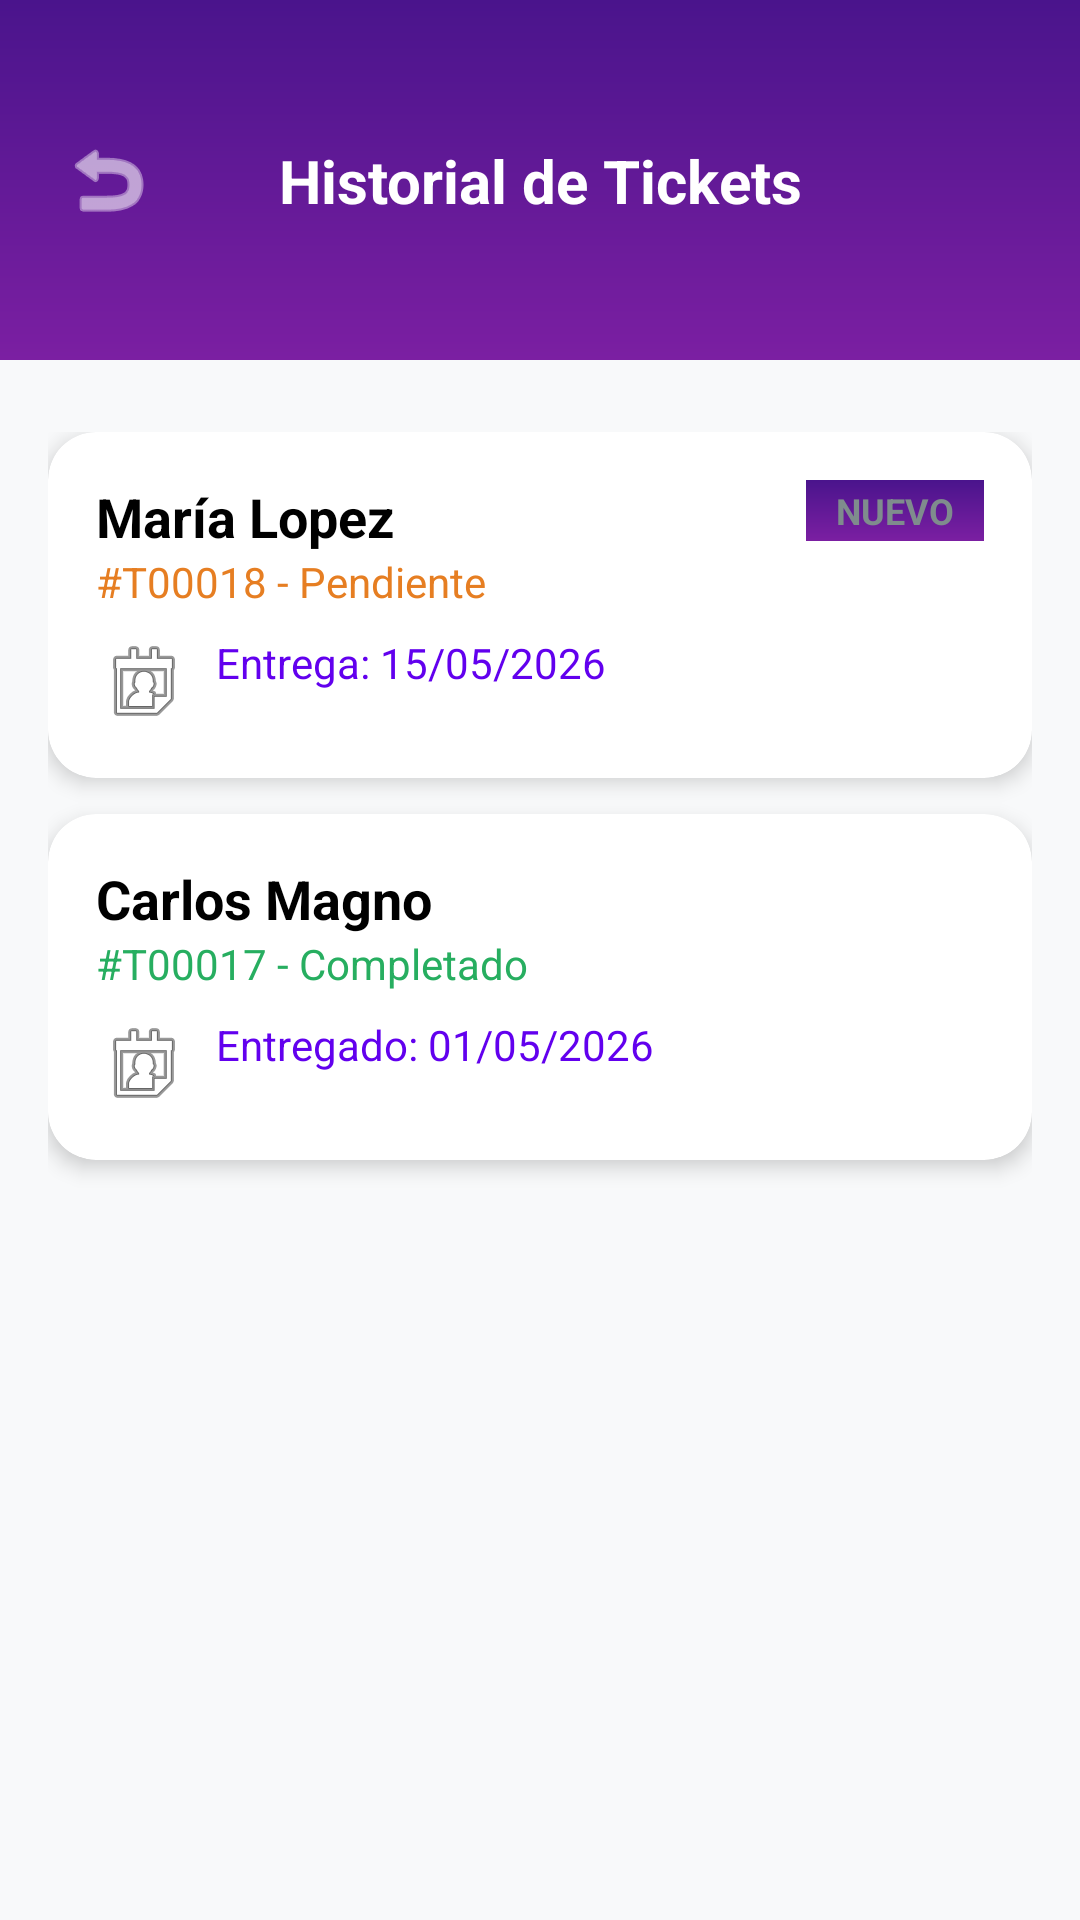

Point at icon controls on the screen. Image size 1080×1920, points as (x=x, y=y).
revert: (x=109, y=180)
